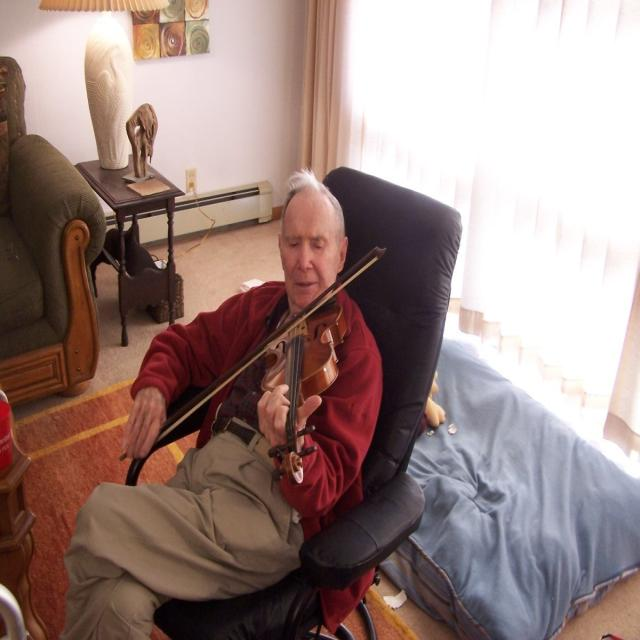violin: (257, 298, 350, 490)
